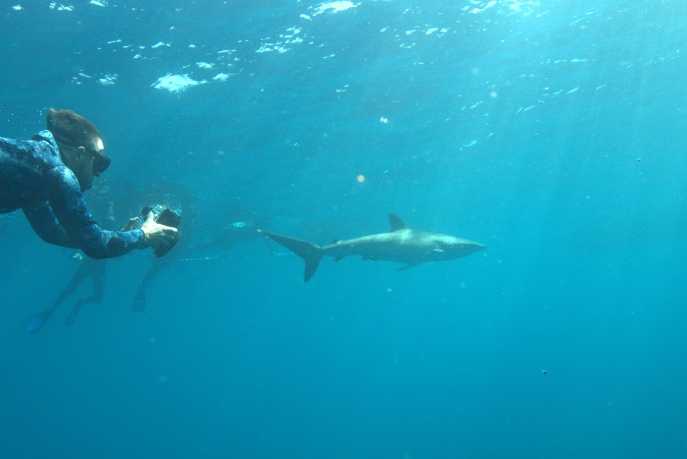Sedoso: (245, 211, 499, 284)
